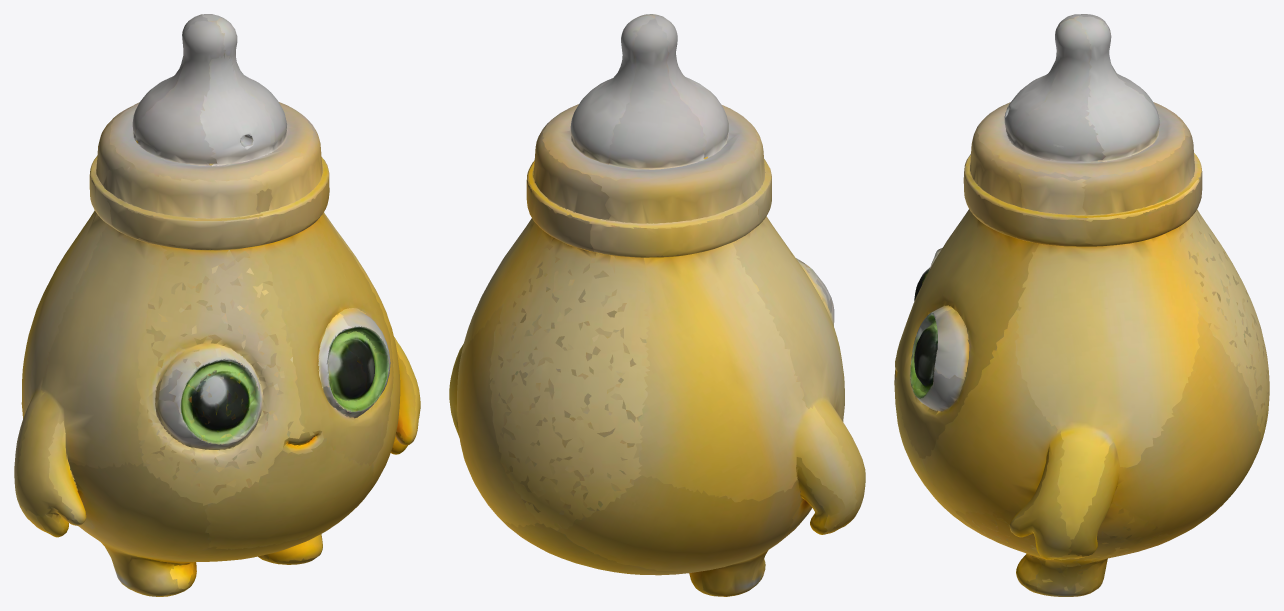
Rendered from naiwa_naiping_runtime.glb.
3 renders of one model, left to right at view 1: azimuth 30°, elevation 25°; view 2: azimuth 150°, elevation 25°; view 3: azimuth 270°, elevation 25°, orthographic. The views are drawn at different scales.
Parts seen in each view (by area): view 1: geometry_0; view 2: geometry_0; view 3: geometry_0.
Part boxes in pixels (x1,y1,x2,y2): geometry_0: [14, 14, 420, 596]; geometry_0: [449, 14, 865, 596]; geometry_0: [894, 14, 1269, 596].
Size of the model in its own units: 0.0987 by 0.13 by 0.0822.
Materials: 1 (1 with a texture image).
